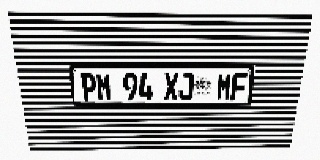4: (138, 73, 153, 100)
9: (123, 73, 138, 101)
F: (230, 73, 247, 100)
J: (178, 73, 194, 100)
M: (96, 73, 112, 101), (216, 73, 232, 100)
P: (80, 73, 97, 101)
X: (164, 73, 179, 100)
